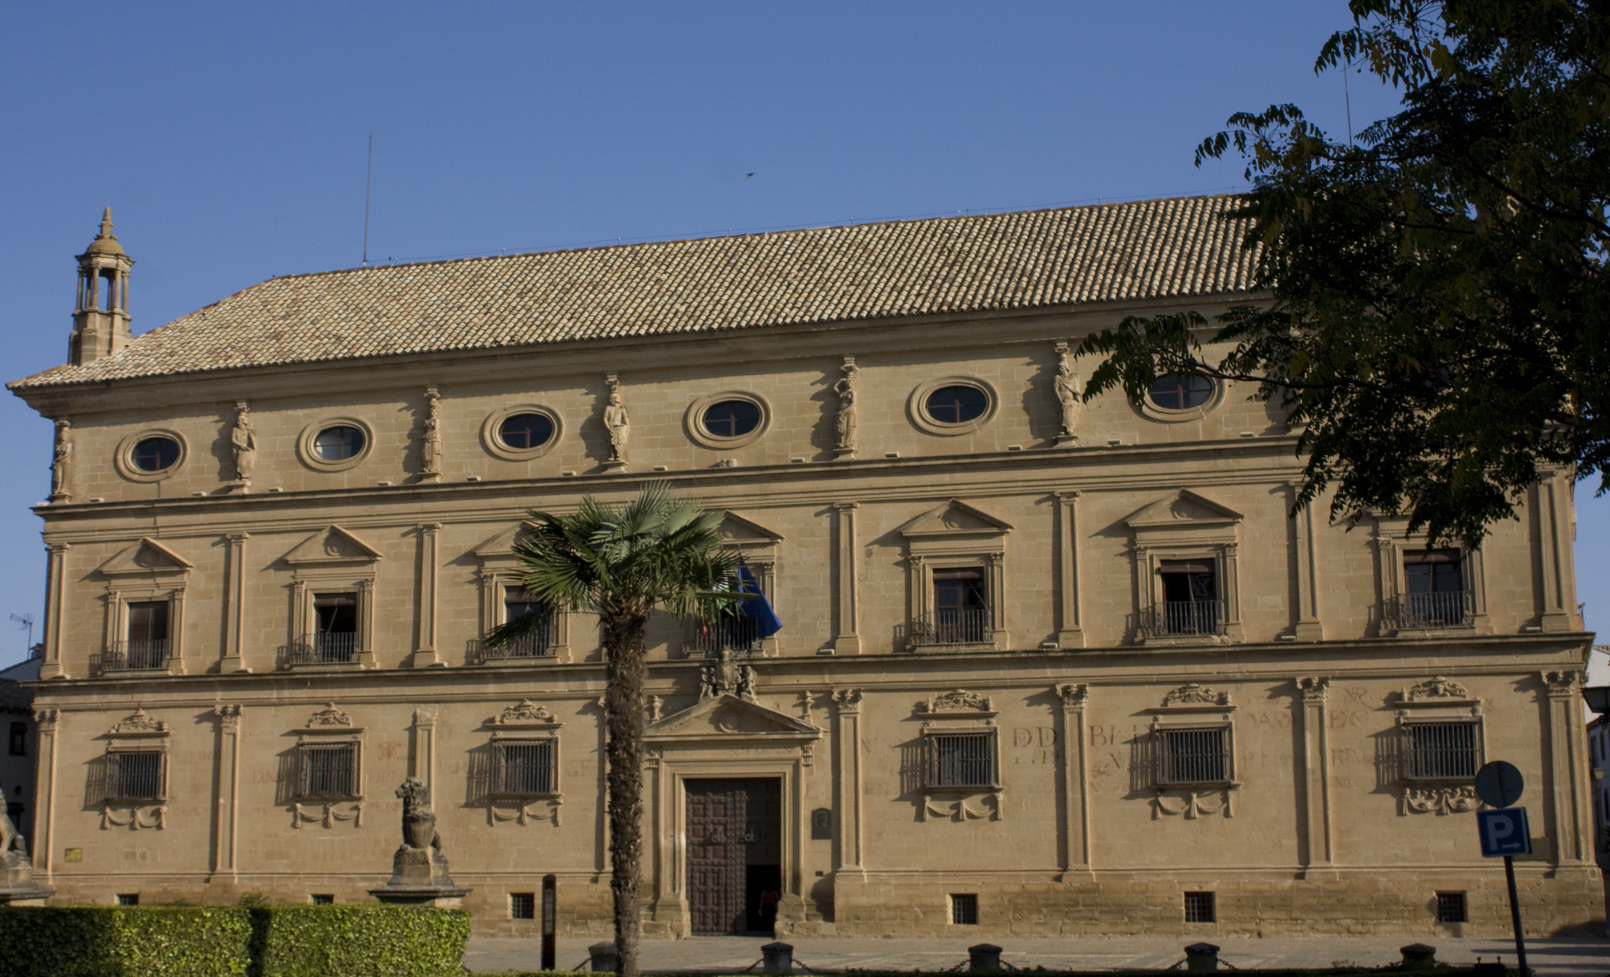fronton: (637, 691, 819, 747), (1124, 486, 1245, 533), (897, 499, 1014, 540), (95, 534, 195, 579), (279, 523, 384, 566)
ojo-de-buey: (904, 371, 1000, 438), (682, 389, 774, 449), (1134, 360, 1228, 418), (480, 403, 563, 461), (299, 411, 374, 474), (115, 424, 190, 483)
vano-adintelado: (649, 753, 803, 940), (1373, 525, 1492, 643), (1129, 534, 1245, 651), (904, 544, 1010, 655), (287, 571, 377, 672), (102, 582, 186, 679)
